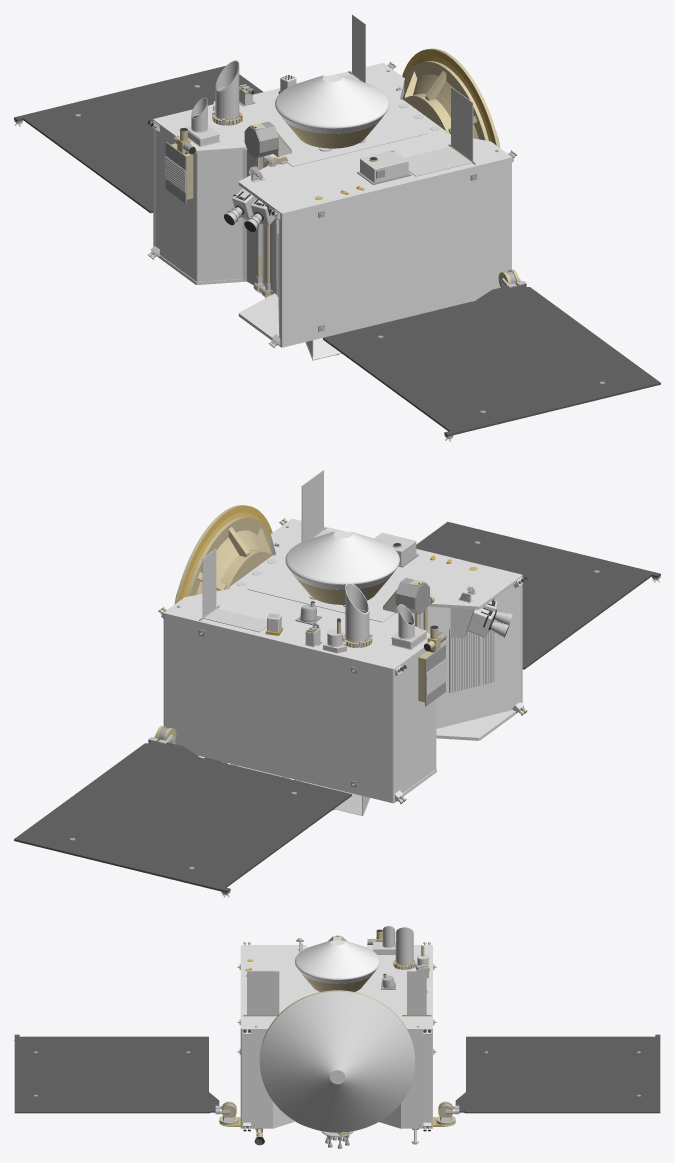
File: origins-spectral-interpretation-resource-identification-and-security-regolith-explorer-osiris-rex.glb
The picture shows the model from 3 angles, top to bottom: view 1: azimuth 30°, elevation 25°; view 2: azimuth 150°, elevation 25°; view 3: azimuth 270°, elevation 25°; orthographic projection. The views are drawn at different scales.
Visible parts, largest first — view 1: Main Layer; view 2: Main Layer; view 3: Main Layer.
Part boxes in pixels (x1=…): Main Layer: x1=14, y1=14, x2=660, y2=441; Main Layer: x1=14, y1=470, x2=660, y2=897; Main Layer: x1=14, y1=926, x2=660, y2=1148.
Size of the model in its own units: 13.72 by 12.01 by 34.65.
